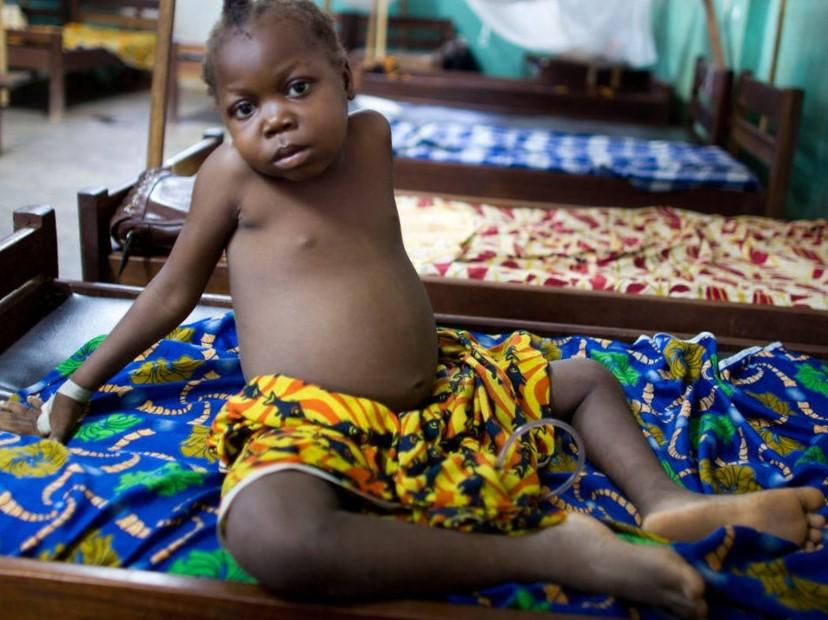Stunting: (188, 0, 373, 215)
